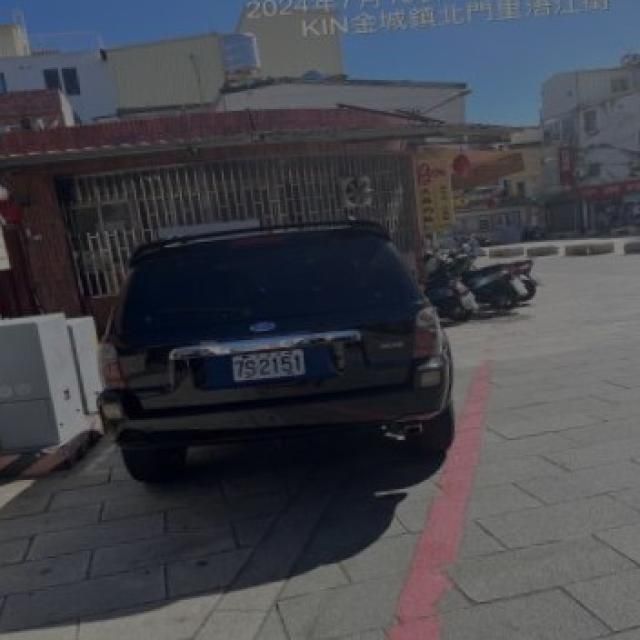Legalparking: (59, 191, 474, 562), (417, 215, 561, 320)
